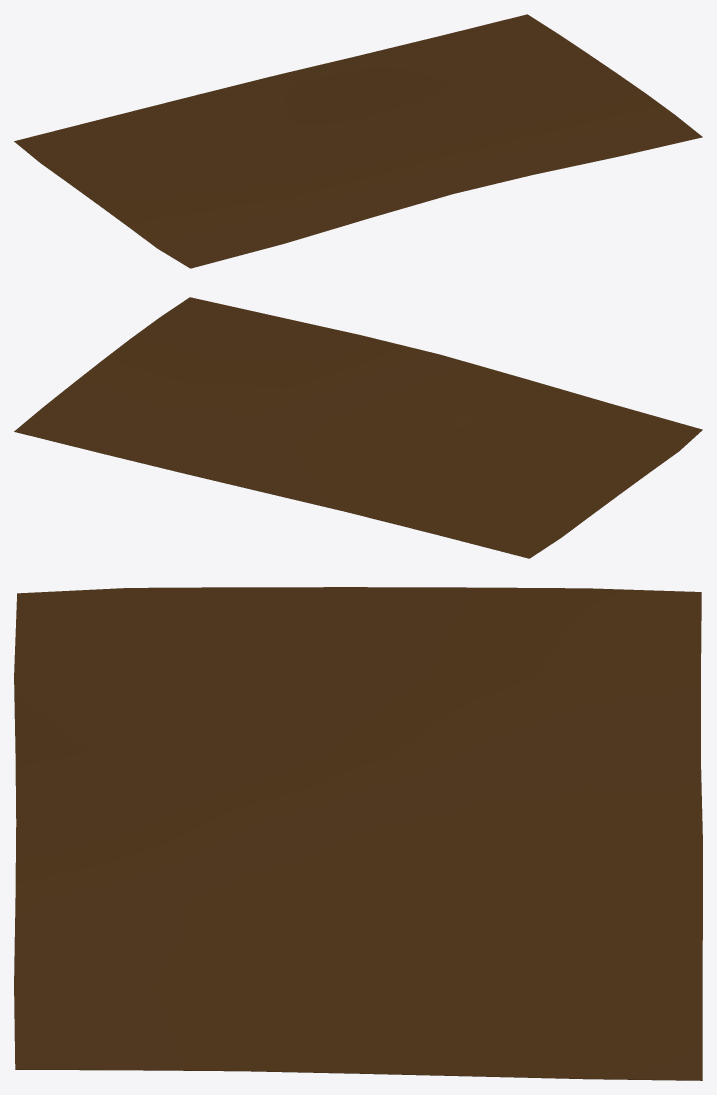
The model's file is Gela Letter.FBX.
3 views of the same model, one above another, from view 1: azimuth 30°, elevation 25°; view 2: azimuth 150°, elevation 25°; view 3: azimuth 270°, elevation 25° (orthographic). The views are drawn at different scales.
Parts seen in each view (by area): view 1: Plane274; view 2: Plane274; view 3: Plane274.
Boxes of the visible parts, bbox=[...] form: Plane274: bbox=[14, 14, 702, 268]; Plane274: bbox=[14, 297, 702, 558]; Plane274: bbox=[14, 587, 702, 1080].
Bounding box in the file's own units: 2.05 × 0.0467 × 1.21.
